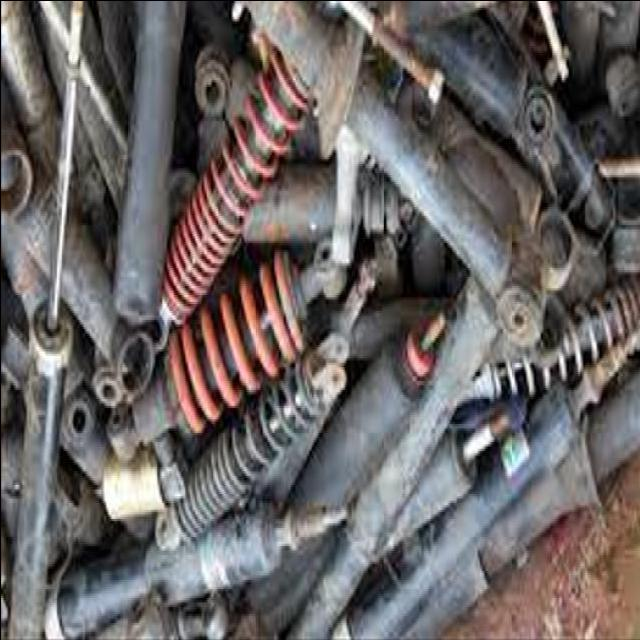shock absorber: (107, 233, 346, 464), (148, 48, 312, 346), (8, 2, 81, 638), (154, 331, 348, 550), (44, 502, 347, 639), (458, 272, 640, 403)
